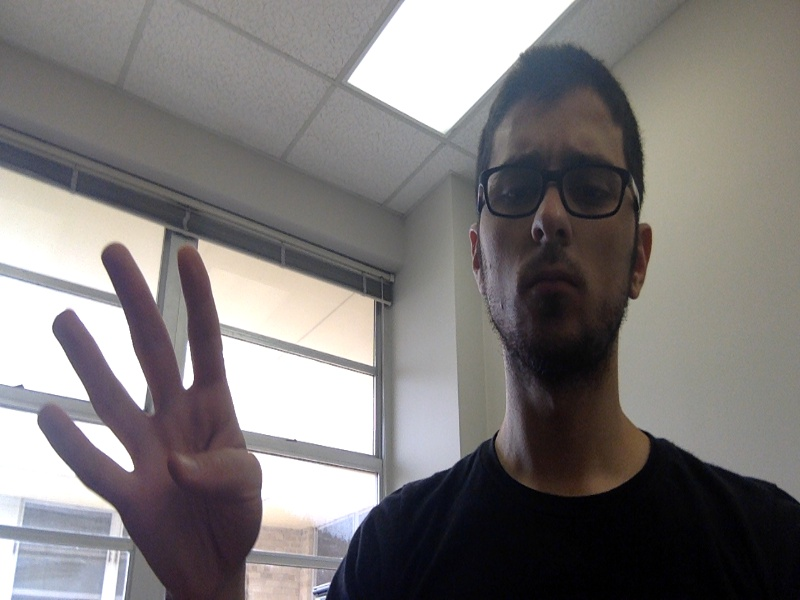4-hand: (37, 243, 261, 593)
